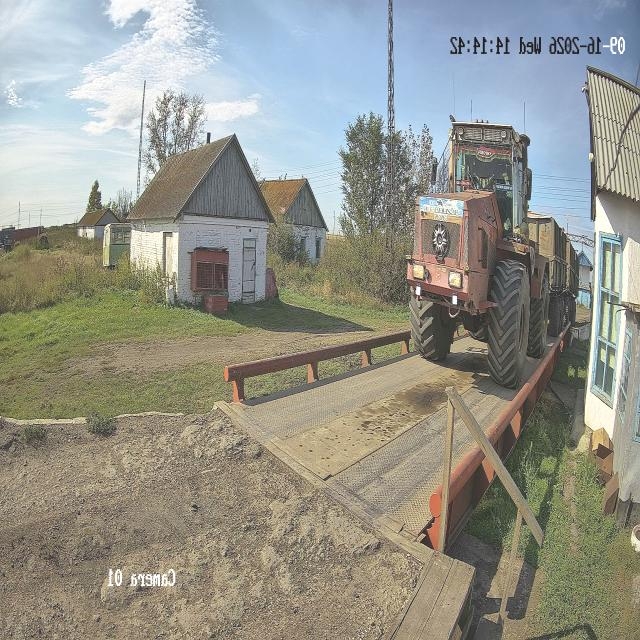trailer: (528, 211, 568, 336), (564, 237, 580, 323)
truck: (408, 118, 550, 387)
